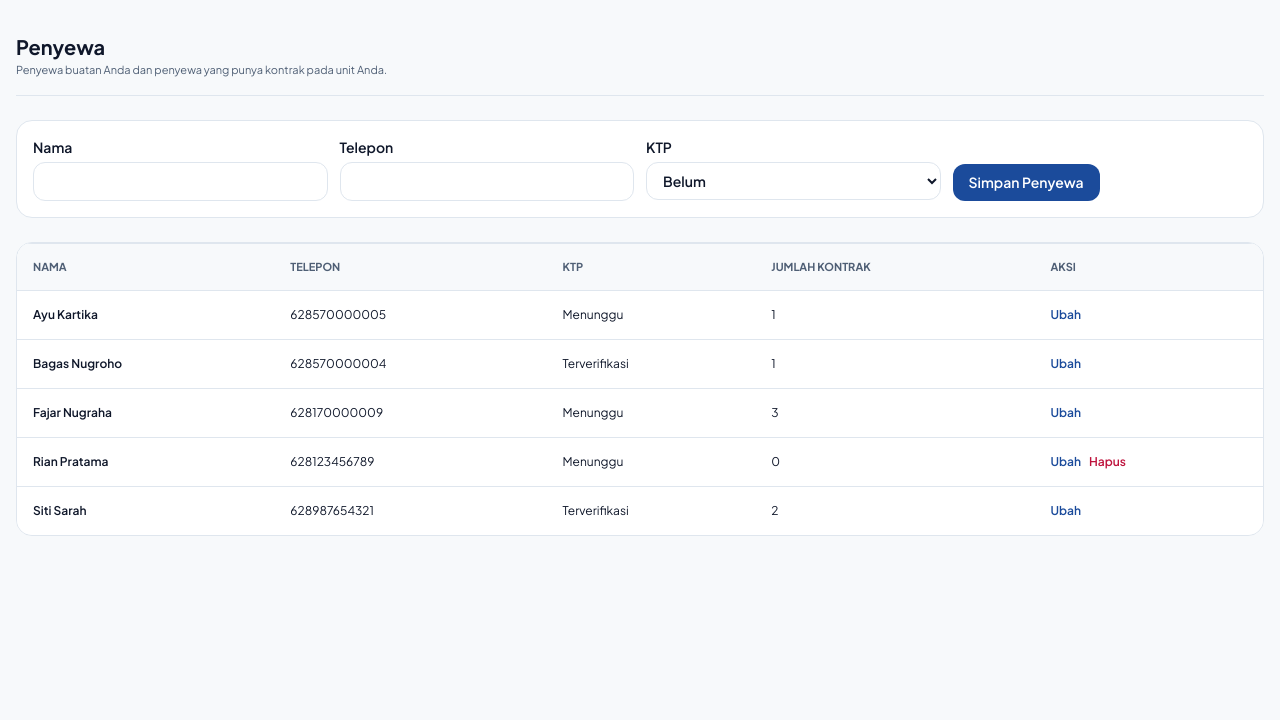
OwnerTenantsPage › mengubah status KTP
The image size is (1280, 720).
Expected: the text "Rian Pratama" is shown, [17,438,274,487]
Click the button "Ubah" in the row of "Rian Pratama": (1066,462) [1050,454,1081,470]
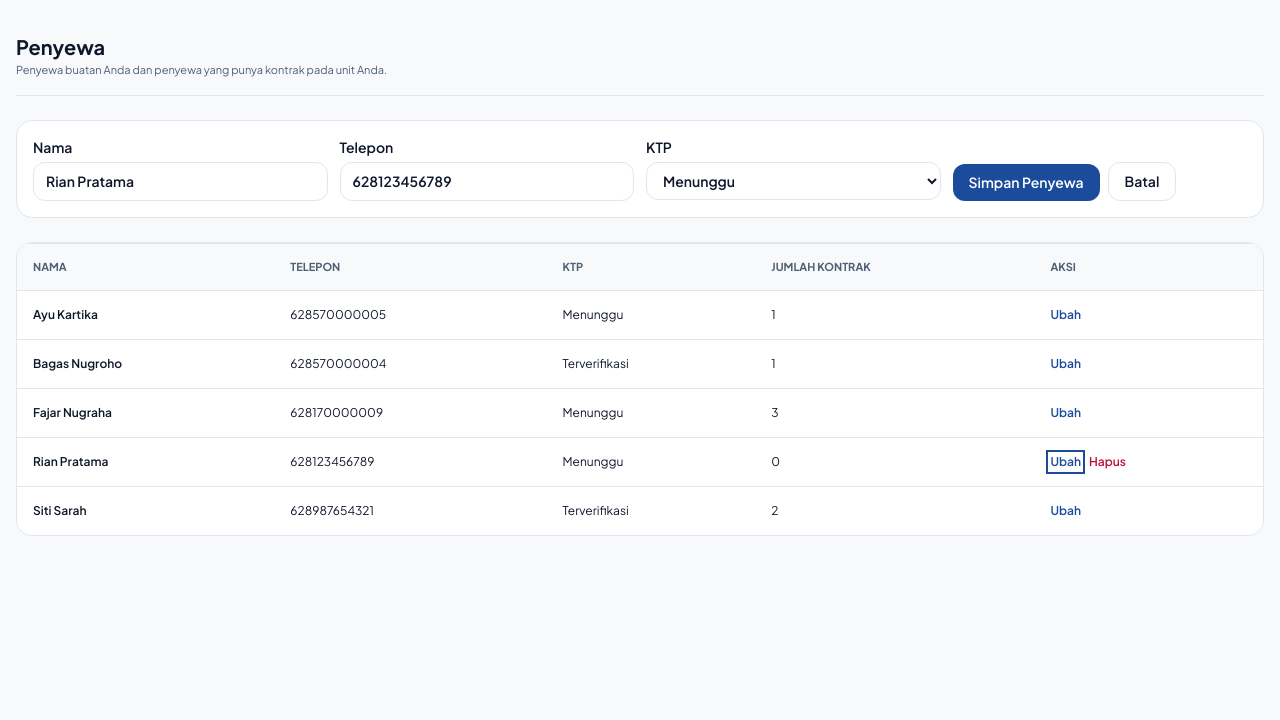
Select "Terverifikasi" in the dropdown labelled "KTP": (793,180) [646,162,940,200]
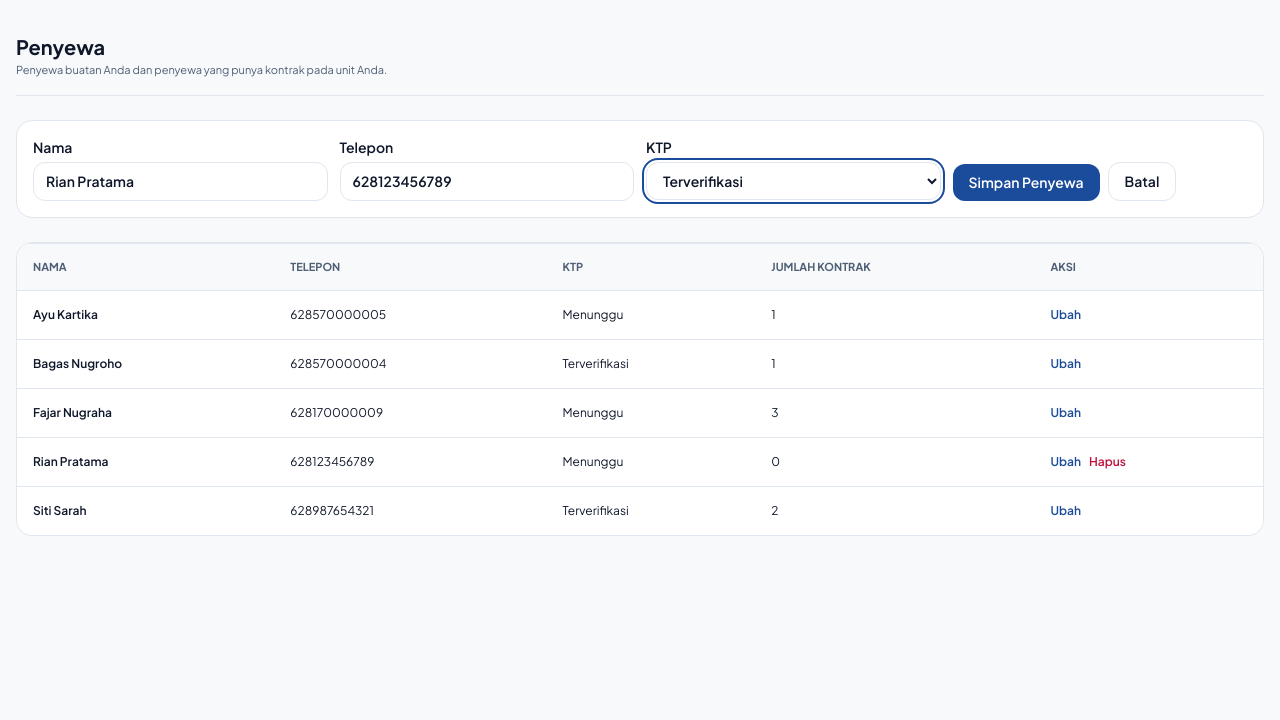
Click the button "Simpan Penyewa": (1026,182) [952,164,1100,200]
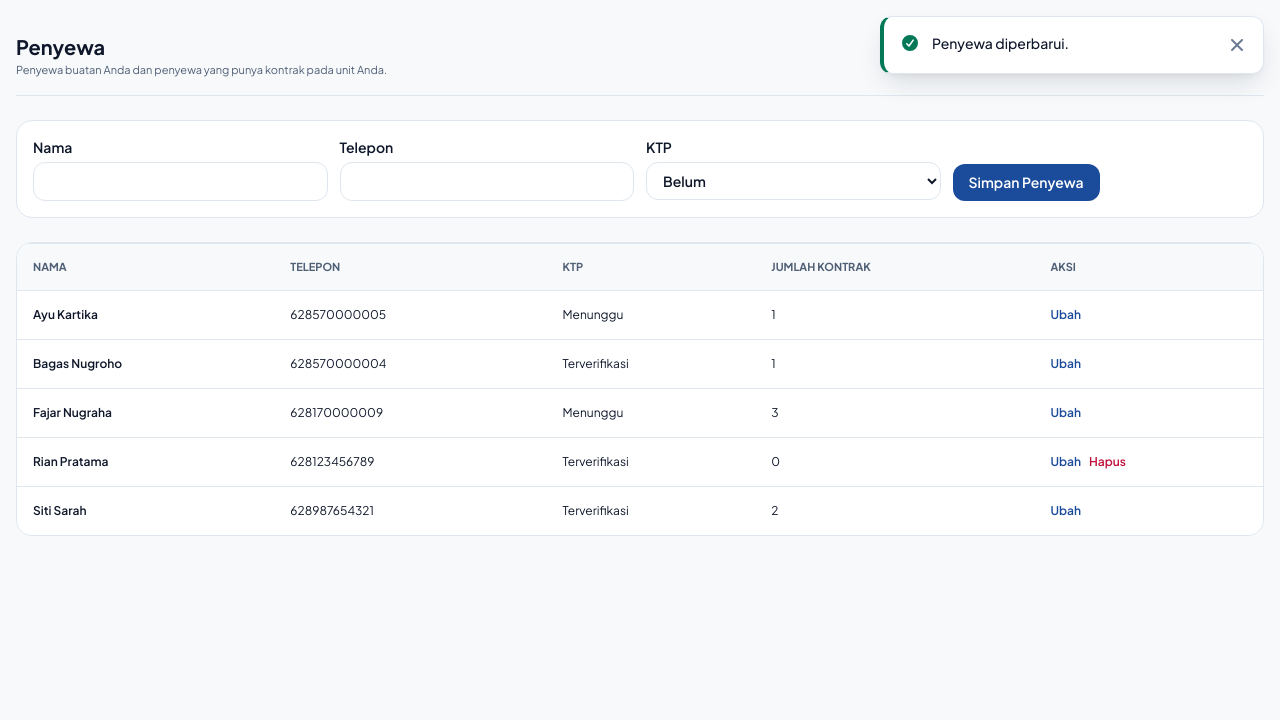
Expected: the text "Terverifikasi" in the row of "Rian Pratama" is shown, [562,454,629,469]
